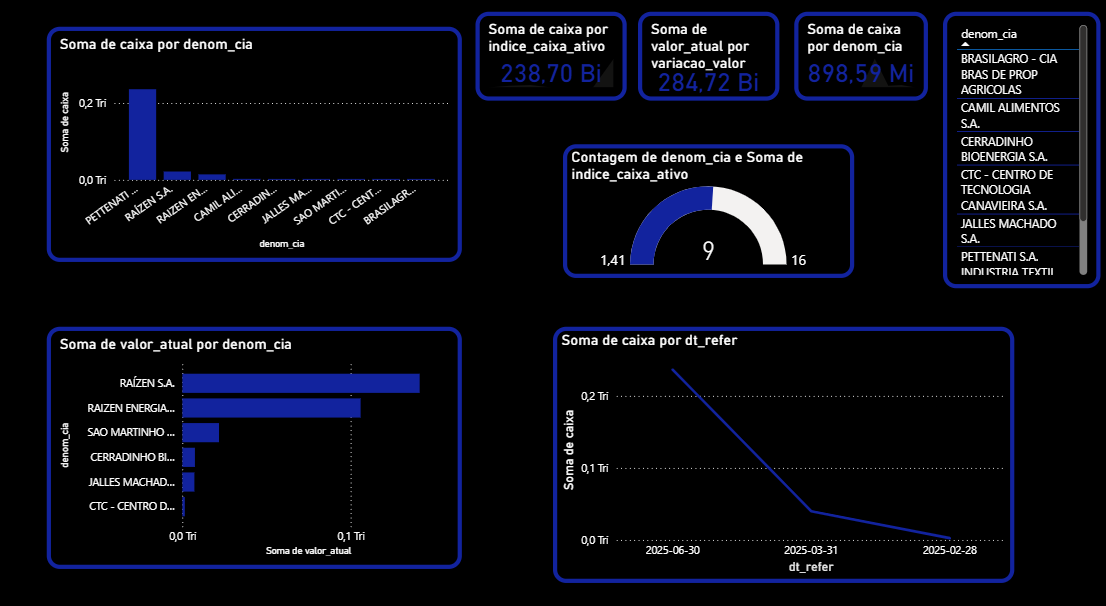

This screenshot's page, from the dashboard's own definition file:
{"tool":"powerbi","page":{"name":"Página 1","canvas":[1280,720],"ordinal":0},"visuals":[{"type":"clusteredColumnChart","fields":{"Y":["Sum(cvm_dados vw_top10_caixa.caixa)"],"Category":["cvm_dados vw_top10_caixa.denom_cia"]},"box":[61.4,32.9,474.3,268.6],"z":0},{"type":"lineChart","fields":{"Category":["cvm_dados vw_caixa_equivalentes.dt_refer"],"Y":["Sum(cvm_dados vw_caixa_equivalentes.caixa)"]},"box":[640,375.7,527.1,292.9],"z":1000},{"type":"clusteredBarChart","fields":{"Category":["cvm_dados vw_variacao_ativo_total.denom_cia"],"Y":["Sum(cvm_dados vw_variacao_ativo_total.valor_atual)"]},"box":[61.4,375.7,474.3,277.1],"z":2000},{"type":"gauge","fields":{"Y":["CountNonNull(cvm_dados vw_indice_caixa_ativo.denom_cia)"],"MinValue":["Sum(cvm_dados vw_indice_caixa_ativo.indice_caixa_ativo)"]},"box":[651.4,167.1,332.9,152.9],"z":3000},{"type":"tableEx","fields":{"Values":["cvm_dados vw_indice_caixa_ativo.denom_cia"]},"box":[1085.7,15.7,180,315.7],"z":4000},{"type":"kpi","fields":{"TrendLine":["cvm_dados vw_variacao_ativo_total.variacao_valor"],"Indicator":["Sum(cvm_dados vw_variacao_ativo_total.valor_atual)"]},"box":[737.1,15.7,161.4,101.4],"z":5000},{"type":"kpi","fields":{"Indicator":["Sum(cvm_dados vw_caixa_equivalentes.caixa)"],"TrendLine":["cvm_dados vw_caixa_equivalentes.denom_cia"]},"box":[915.7,15.7,152.9,101.4],"z":6000},{"type":"kpi","fields":{"TrendLine":["cvm_dados vw_indice_caixa_ativo.indice_caixa_ativo"],"Indicator":["Sum(cvm_dados vw_top10_caixa.caixa)"]},"box":[551.4,15.7,172.9,101.4],"z":7000}]}

Visuals, with their boxes in screenshot pixels (x1, y1, x2, y2), scaled from the page's 1280x720 canvas onto the 1106x606 screenshot:
clusteredColumnChart - Sum(cvm_dados vw_top10_caixa.caixa) x cvm_dados vw_top10_caixa.denom_cia: Rect(53, 28, 463, 254)
lineChart - cvm_dados vw_caixa_equivalentes.dt_refer x Sum(cvm_dados vw_caixa_equivalentes.caixa): Rect(553, 316, 1008, 563)
clusteredBarChart - cvm_dados vw_variacao_ativo_total.denom_cia x Sum(cvm_dados vw_variacao_ativo_total.valor_atual): Rect(53, 316, 463, 549)
gauge - CountNonNull(cvm_dados vw_indice_caixa_ativo.denom_cia) x Sum(cvm_dados vw_indice_caixa_ativo.indice_caixa_ativo): Rect(563, 141, 850, 269)
tableEx - cvm_dados vw_indice_caixa_ativo.denom_cia: Rect(938, 13, 1094, 279)
kpi - cvm_dados vw_variacao_ativo_total.variacao_valor x Sum(cvm_dados vw_variacao_ativo_total.valor_atual): Rect(637, 13, 776, 99)
kpi - Sum(cvm_dados vw_caixa_equivalentes.caixa) x cvm_dados vw_caixa_equivalentes.denom_cia: Rect(791, 13, 923, 99)
kpi - cvm_dados vw_indice_caixa_ativo.indice_caixa_ativo x Sum(cvm_dados vw_top10_caixa.caixa): Rect(476, 13, 626, 99)
